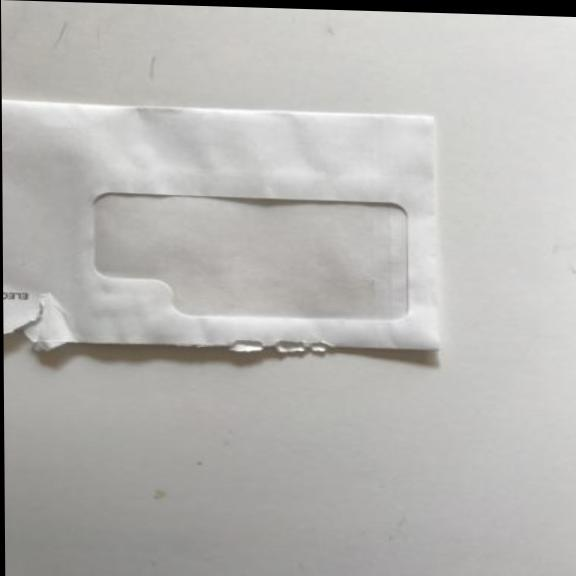Kertas: (1, 94, 449, 371)
